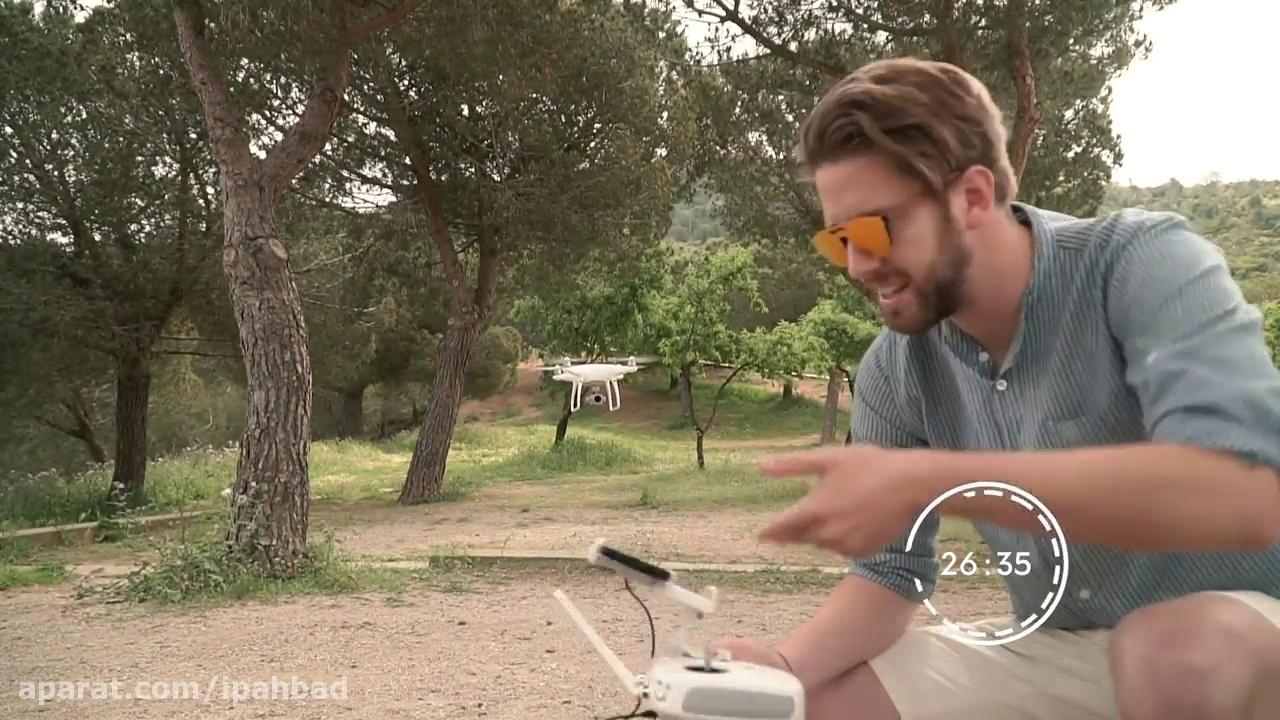drone: (533, 350, 661, 414)
